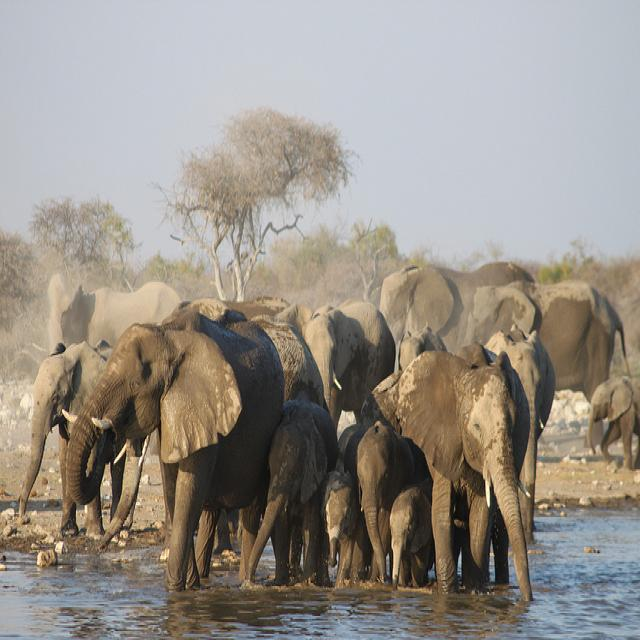Elephant: (61, 297, 330, 592), (360, 343, 533, 603), (17, 339, 128, 538), (247, 394, 338, 586), (379, 259, 539, 366), (275, 298, 396, 435), (59, 279, 182, 349), (586, 374, 639, 470)
